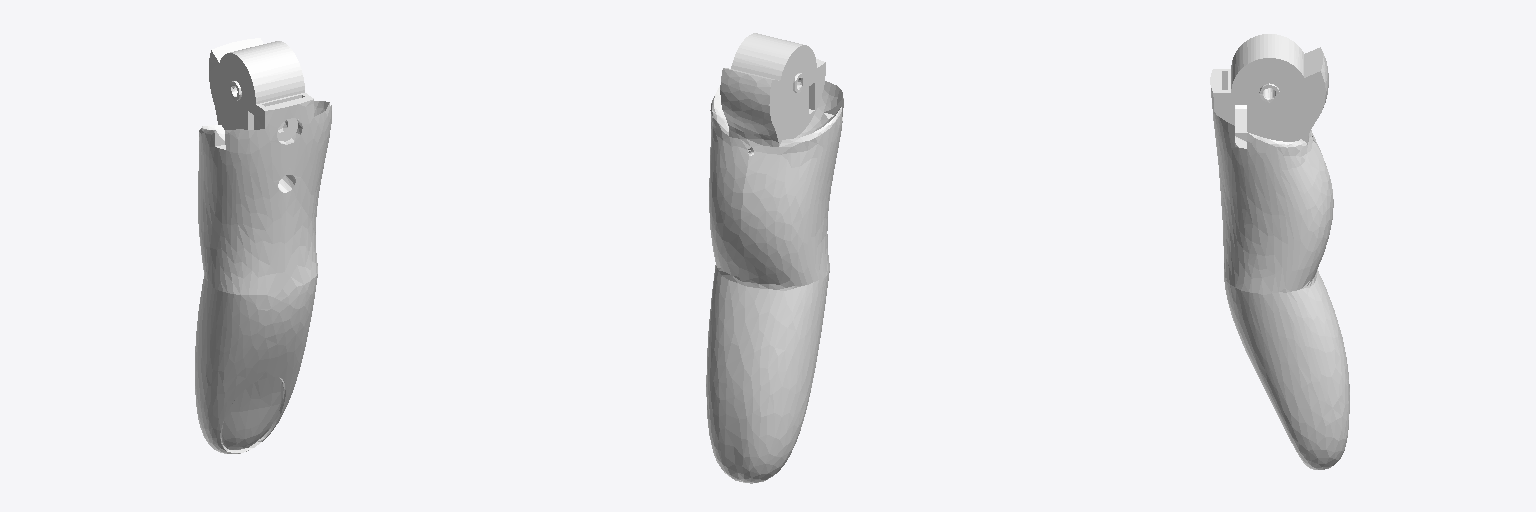
File: armar-7_middle_intermediate_distal_phalanx.obj
The picture shows the model from 3 angles: view 1: azimuth 30°, elevation 25°; view 2: azimuth 150°, elevation 25°; view 3: azimuth 270°, elevation 25°; orthographic projection.
Size of the model in its own units: 0.0203 by 0.0685 by 0.0206.